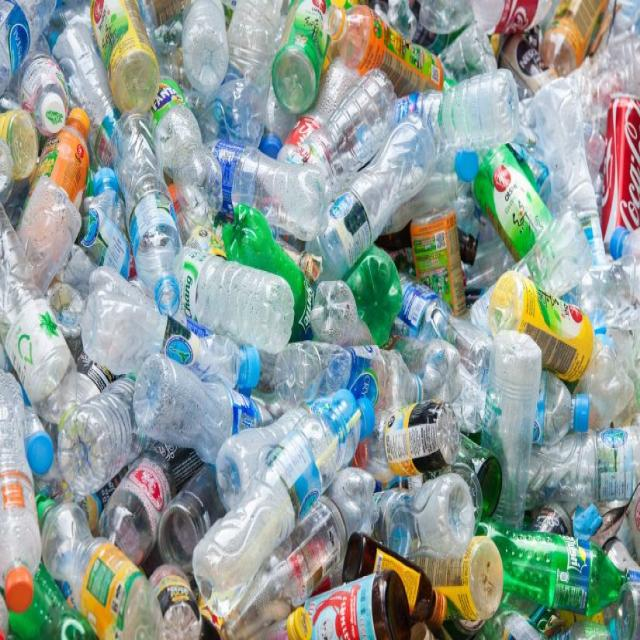Metal: (406, 192, 478, 332), (600, 80, 640, 252)
Plastico: (180, 375, 369, 640), (19, 457, 188, 640), (276, 48, 412, 231), (465, 497, 633, 622), (125, 335, 275, 466), (163, 217, 299, 358), (88, 423, 203, 579), (465, 317, 553, 520), (485, 260, 605, 398), (200, 124, 332, 245), (464, 124, 564, 269), (392, 66, 528, 170), (107, 111, 184, 283), (71, 249, 161, 384), (331, 0, 444, 93), (1, 368, 42, 620), (90, 2, 170, 120), (376, 459, 475, 552), (43, 396, 122, 504), (42, 75, 88, 238), (276, 2, 329, 127), (348, 248, 404, 352), (141, 555, 208, 640), (181, 2, 235, 97), (14, 57, 76, 136)
Vidrio: (281, 555, 418, 640)
